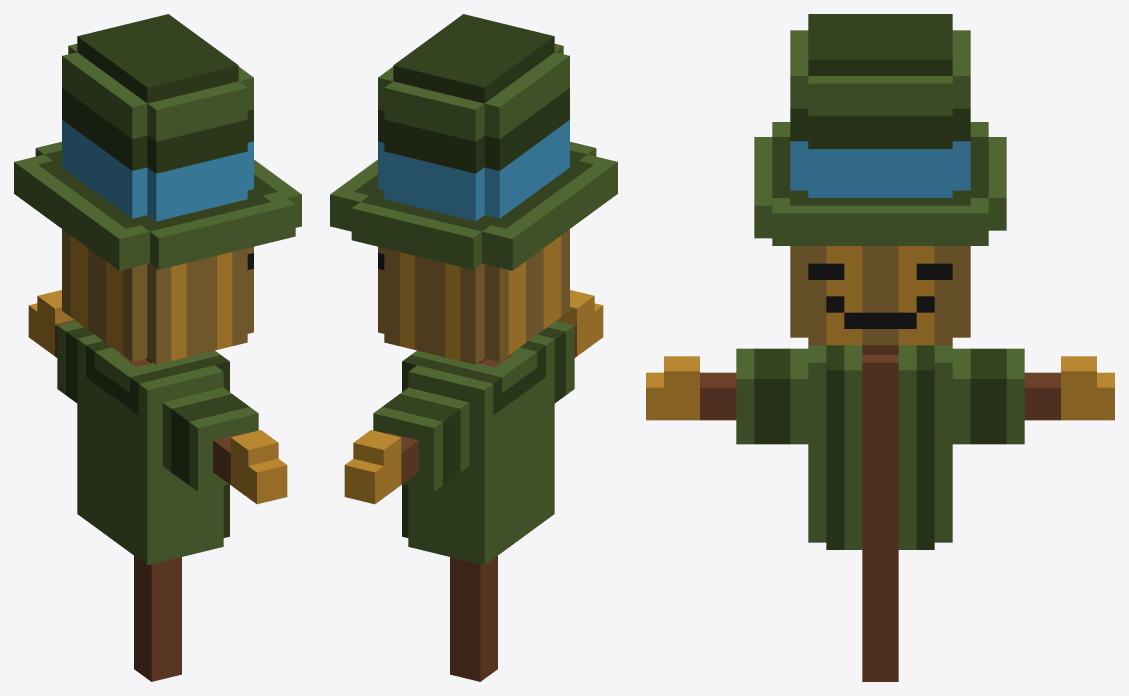
The model's file is lv39 scarecrow.fbx.
3 renders of one model, left to right at view 1: azimuth 30°, elevation 25°; view 2: azimuth 150°, elevation 25°; view 3: azimuth 270°, elevation 25°, orthographic. The views are drawn at different scales.
Visible parts, largest first — view 1: pCube7181, pCube5337, pCube6434, pCube6921, pCube7176, pCube5332, pCube7201, pCube6416, pCube7001; view 2: pCube7131, pCube5407, pCube6362, pCube6855, pCube7025, pCube5420, pCube7113, pCube6369, pCube6978; view 3: no part large enough to name.
Boxes of the visible parts, x1=… form: pCube7181: x1=123, y1=97, x2=147, y2=123; pCube5337: x1=239, y1=440, x2=263, y2=465; pCube6434: x1=110, y1=229, x2=134, y2=254; pCube6921: x1=138, y1=380, x2=162, y2=405; pCube7176: x1=147, y1=100, x2=171, y2=125; pCube5332: x1=248, y1=462, x2=272, y2=488; pCube7201: x1=138, y1=77, x2=162, y2=103; pCube6416: x1=150, y1=228, x2=173, y2=253; pCube7001: x1=189, y1=418, x2=212, y2=443; pCube7131: x1=484, y1=97, x2=508, y2=123; pCube5407: x1=368, y1=440, x2=392, y2=465; pCube6362: x1=497, y1=229, x2=521, y2=254; pCube6855: x1=469, y1=380, x2=493, y2=405; pCube7025: x1=460, y1=100, x2=484, y2=125; pCube5420: x1=359, y1=462, x2=383, y2=488; pCube7113: x1=469, y1=77, x2=493, y2=103; pCube6369: x1=458, y1=228, x2=481, y2=253; pCube6978: x1=419, y1=418, x2=442, y2=443.
Size of the model in its own units: 12 by 39 by 26.
